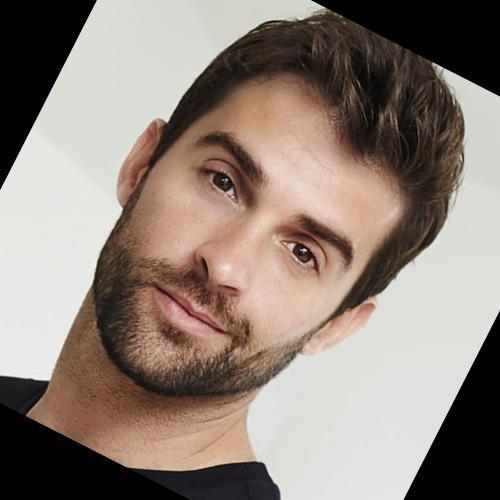Sober: (150, 101, 373, 372)
